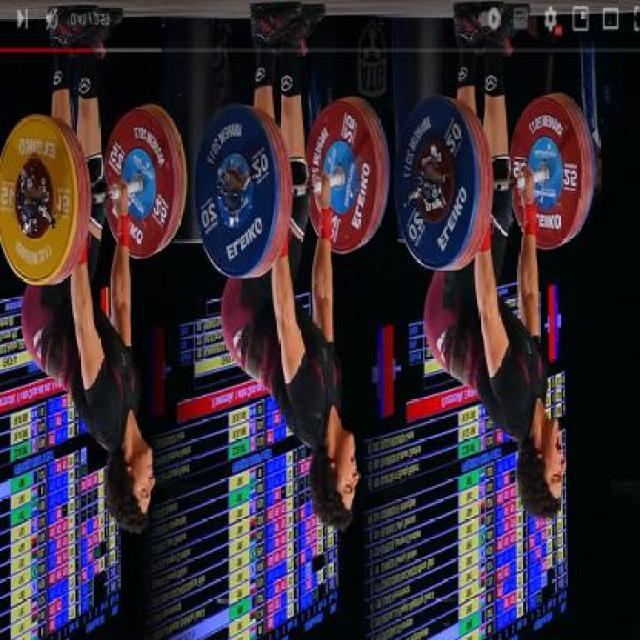Barbell: (216, 173, 230, 204), (414, 166, 428, 197), (14, 186, 28, 214)
